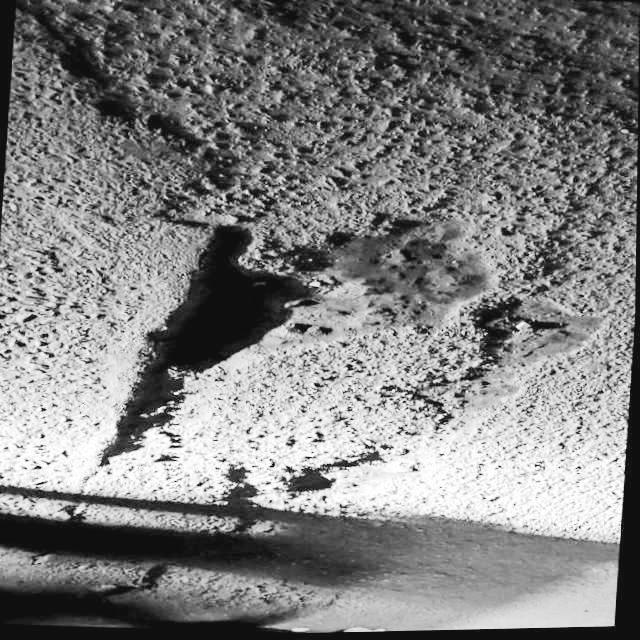Pothole: (134, 216, 361, 429), (448, 291, 578, 427), (281, 462, 346, 511)
